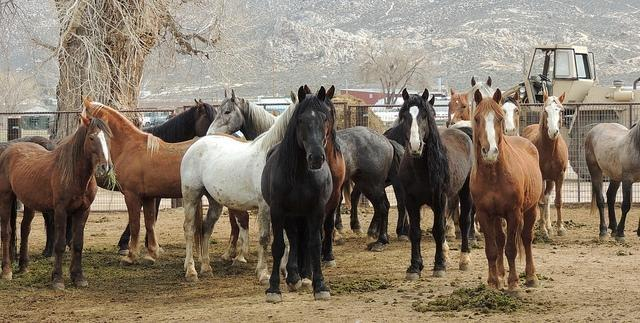truck: (504, 45, 638, 180)
